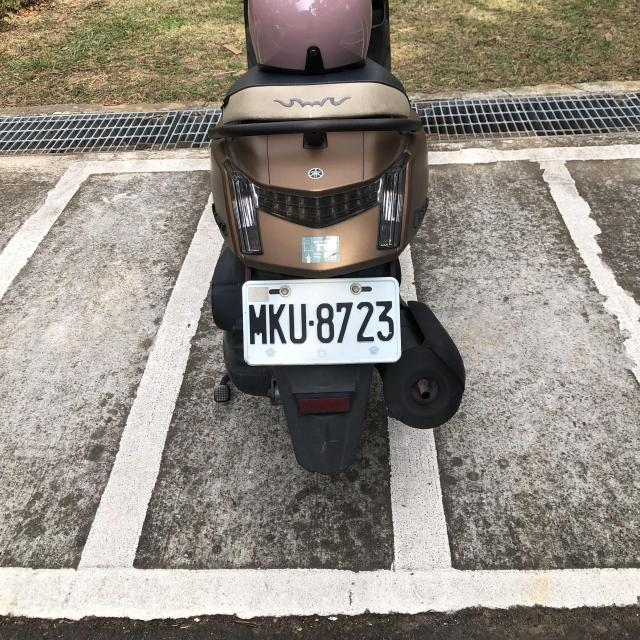W: (241, 276, 401, 366)
